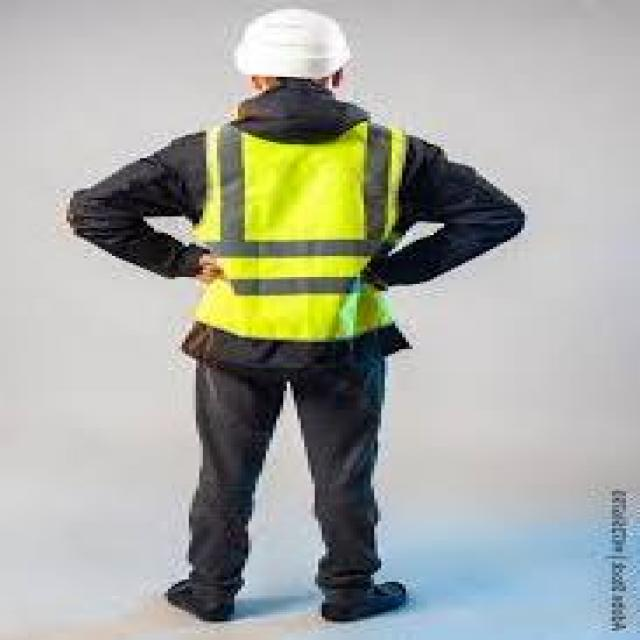Reflective-Jacket: (157, 114, 448, 356)
Safety-Helmet: (217, 2, 371, 88)
